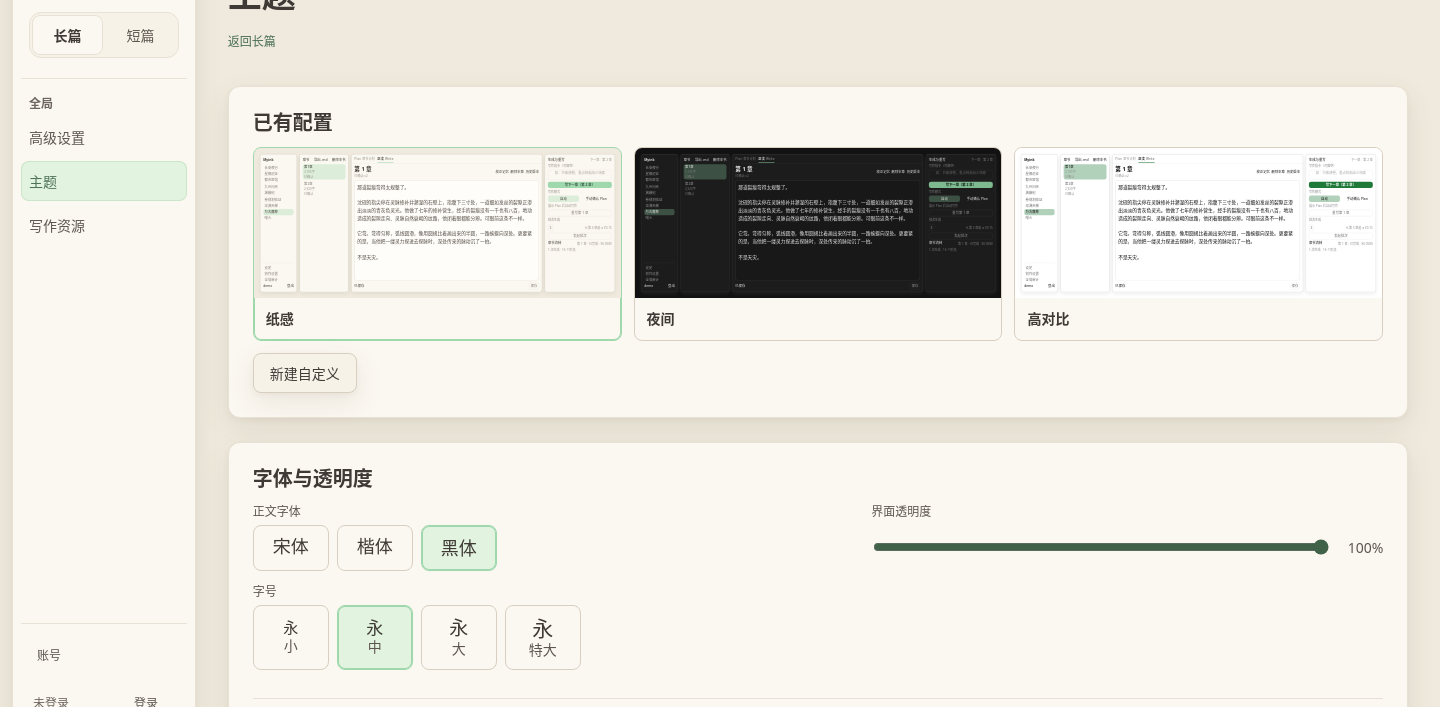
Scenario: writes the preset and the chosen colors only on 保存这套
Click the button "新建自定义" at (305, 373), box top-left (253, 353), bottom-right (357, 393)
(page scrolled)
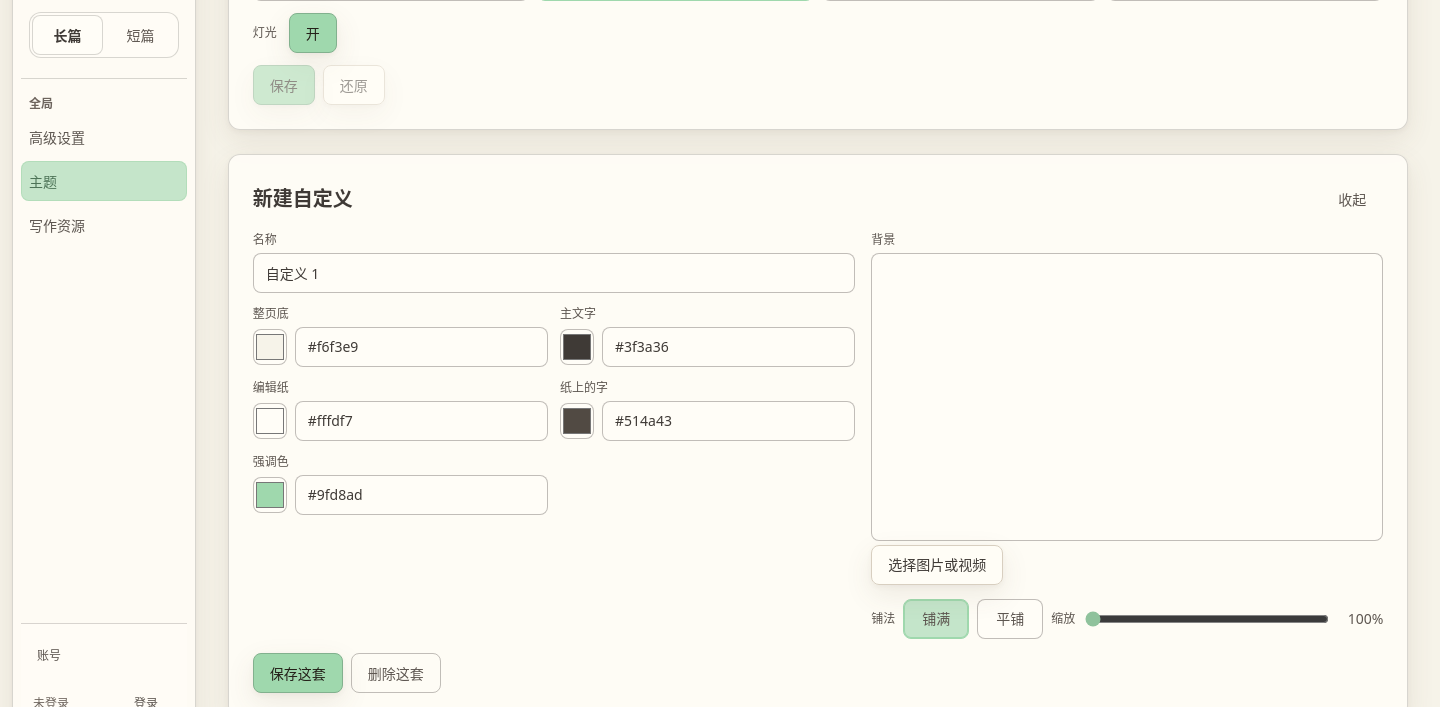
Replace the text in the field named "整页底" with "#112233" at (421, 347), box top-left (295, 327), bottom-right (548, 367)
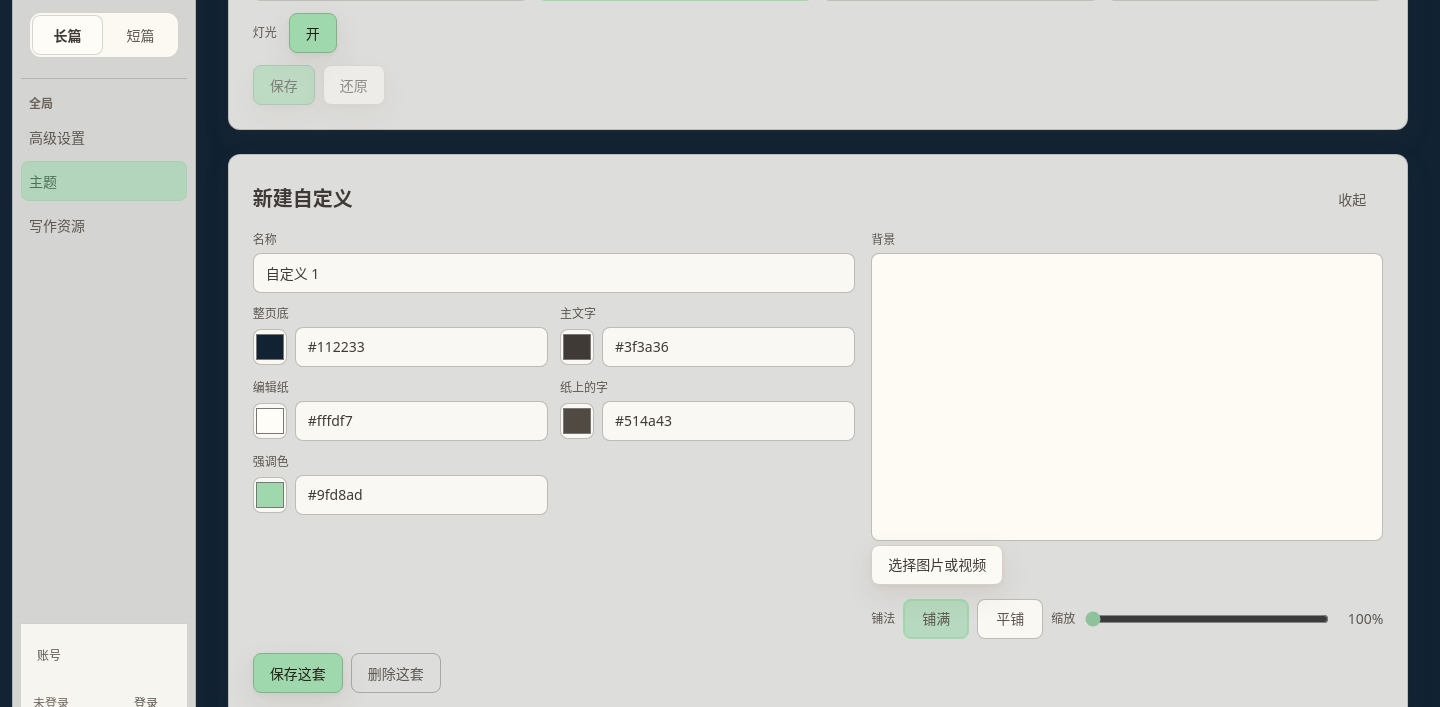
Click the button "保存这套" at (298, 673), box top-left (253, 653), bottom-right (343, 693)
(page scrolled)
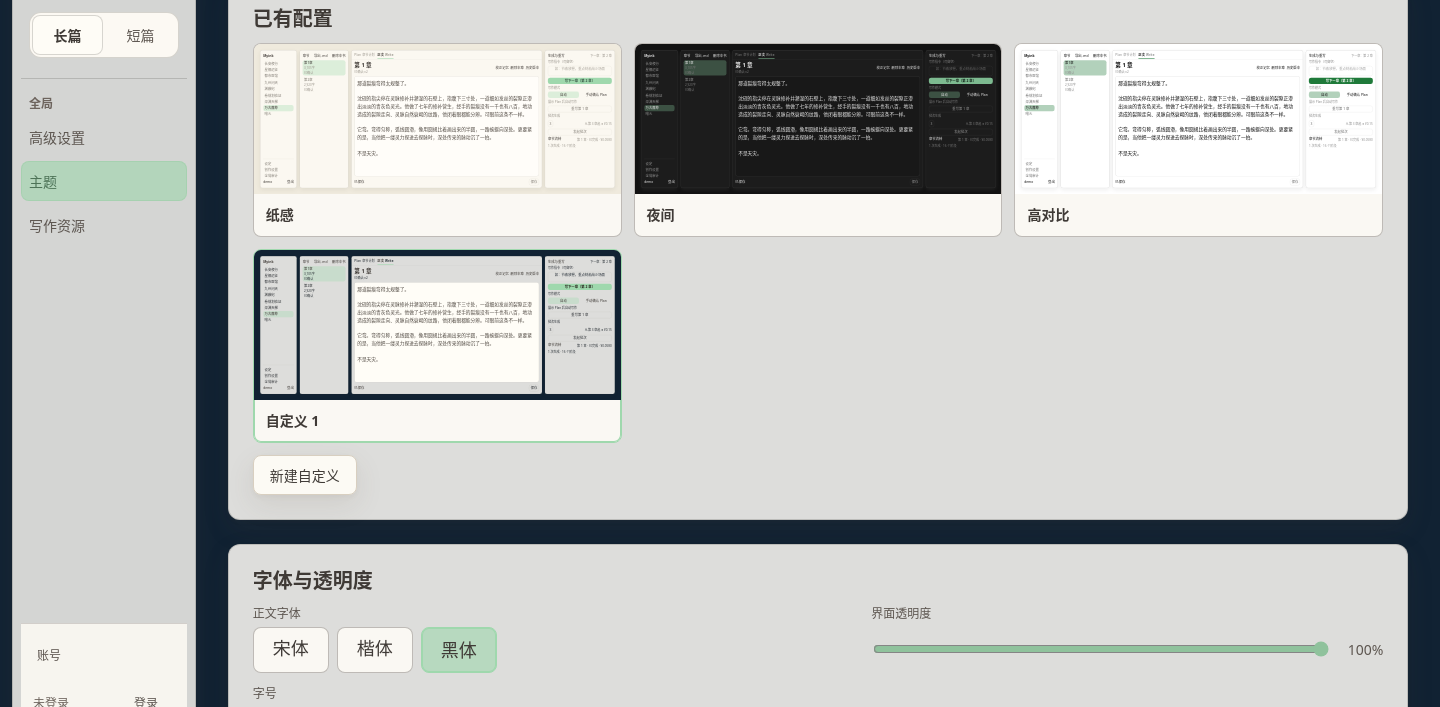
Now the button with aria-label "自定义 1" is shown, box top-left (253, 249), bottom-right (622, 443)
